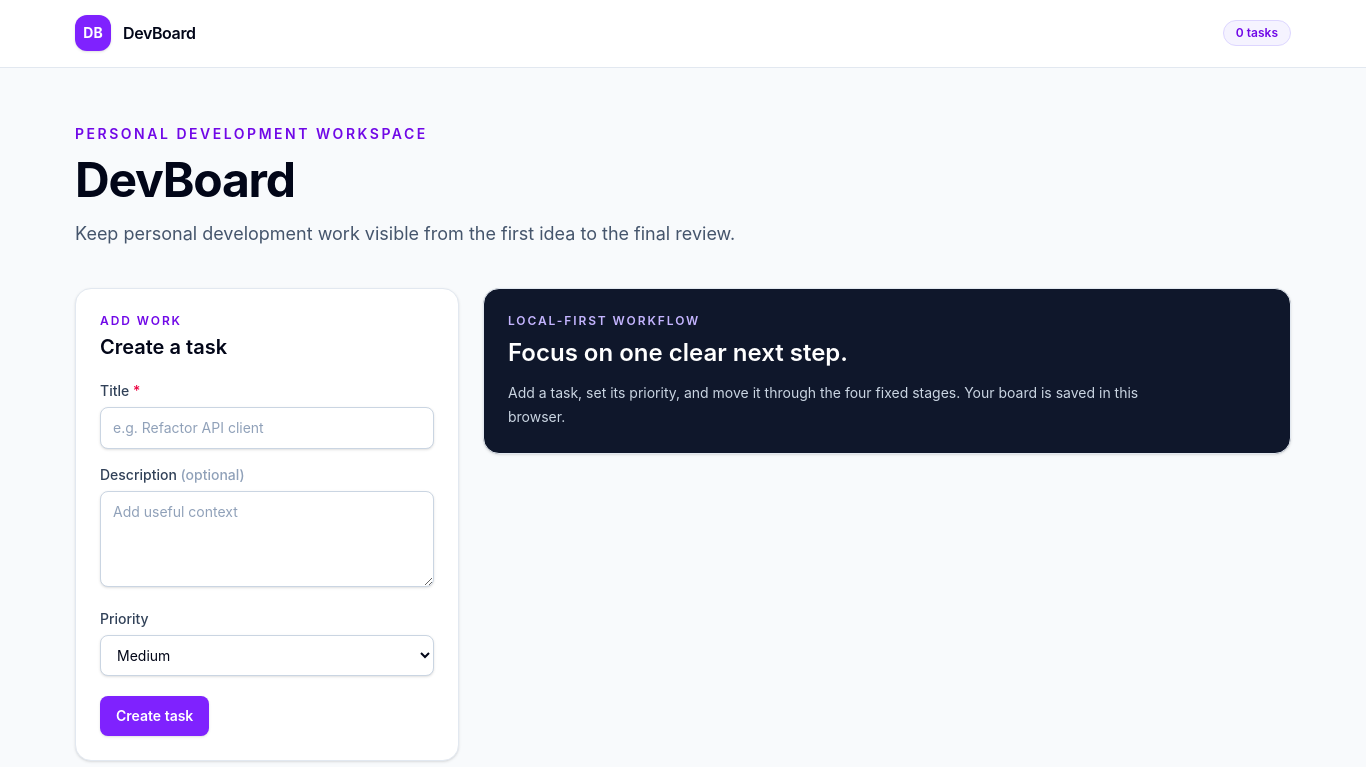
Test: App task workflow › moves a task between columns and updates both counts
Type "Move me" into the field labelled "Title *" at (267, 428), box x1=100 y1=407 x2=434 y2=449
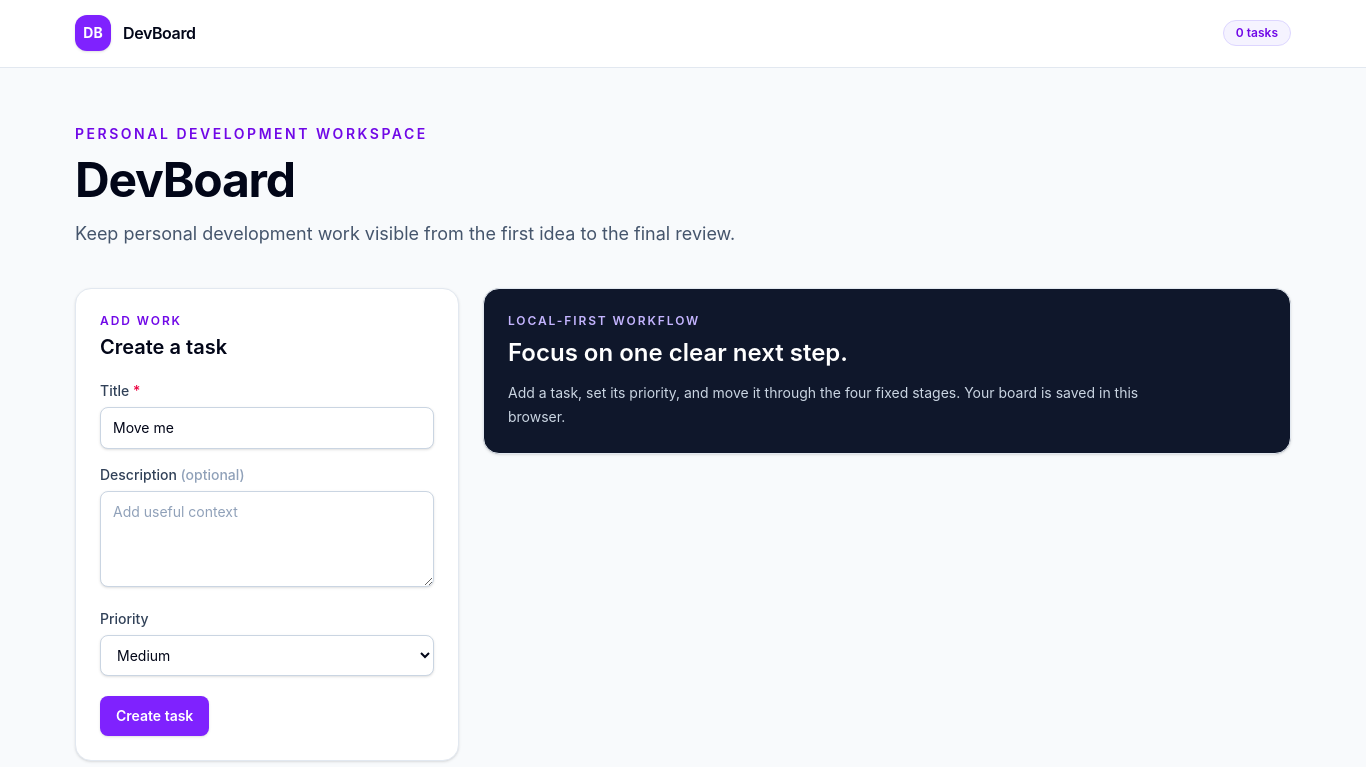
Click the button "Create task" at (155, 716), box x1=100 y1=696 x2=209 y2=736
(page scrolled)
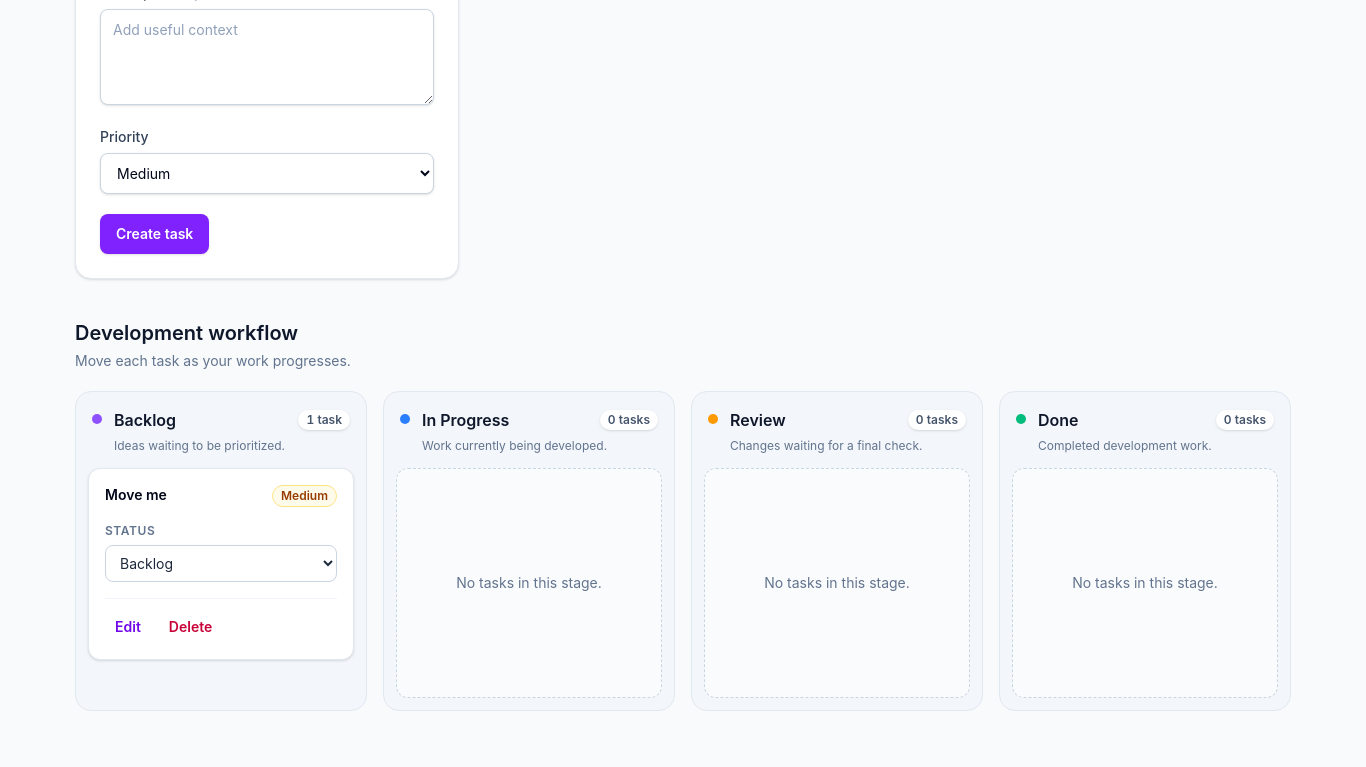
Select "Done" in the dropdown named "Status for Move me" at (221, 564), box x1=105 y1=545 x2=337 y2=582
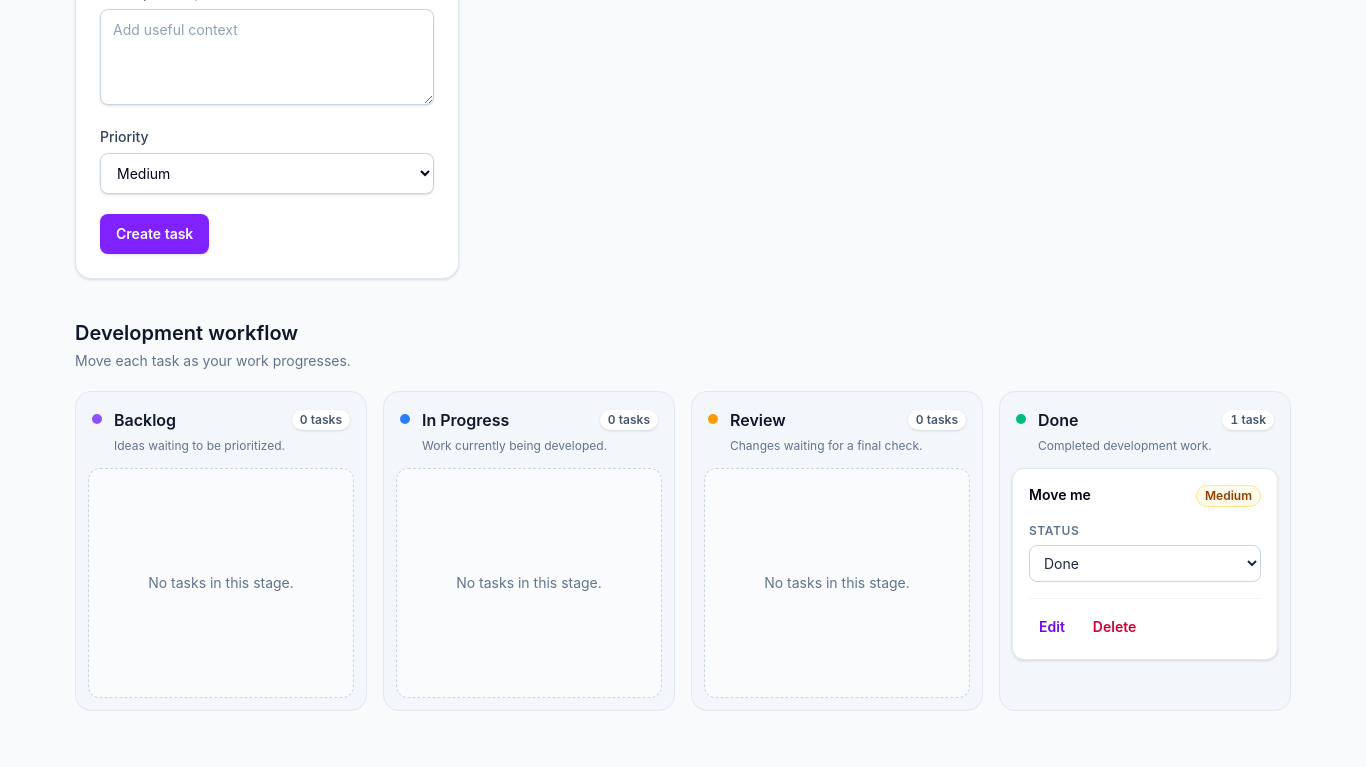
Now the heading "Move me" is shown, box x1=1029 y1=485 x2=1091 y2=505
Now the text "0 tasks" next to "Backlog" is shown, box x1=292 y1=410 x2=350 y2=430
Now the text "1 task" is shown, box x1=1222 y1=410 x2=1274 y2=430
